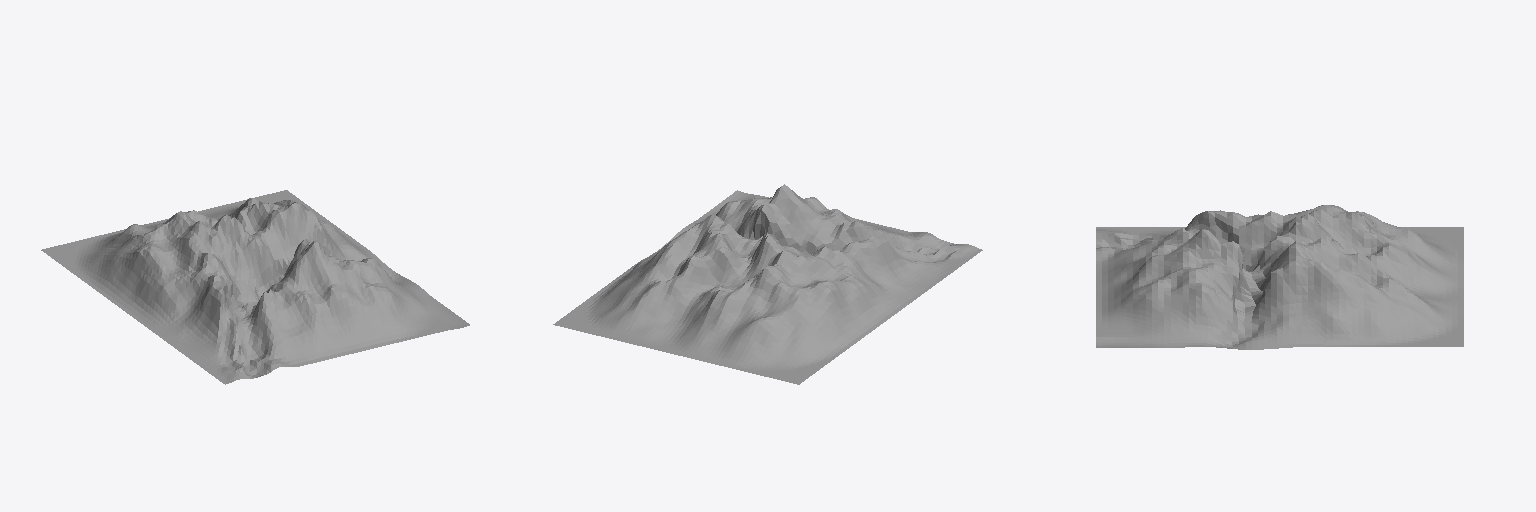
The model's file is mount.obj.
3 views of the same model, side by side, from view 1: azimuth 30°, elevation 25°; view 2: azimuth 150°, elevation 25°; view 3: azimuth 270°, elevation 25° (orthographic).
Parts seen in each view (by area): view 1: Landscape; view 2: Landscape; view 3: Landscape.
Boxes of the visible parts, x1,y1,x2,y2 form: Landscape: [41, 190, 469, 384]; Landscape: [553, 184, 982, 384]; Landscape: [1096, 205, 1463, 349].
Bounding box in the file's own units: 6.47 × 1.88 × 8.39.